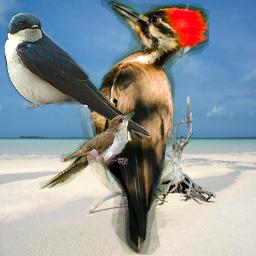Cuckoo: (39, 112, 135, 189)
Swallow: (4, 12, 151, 138)
Woodpecker: (78, 0, 209, 255)
